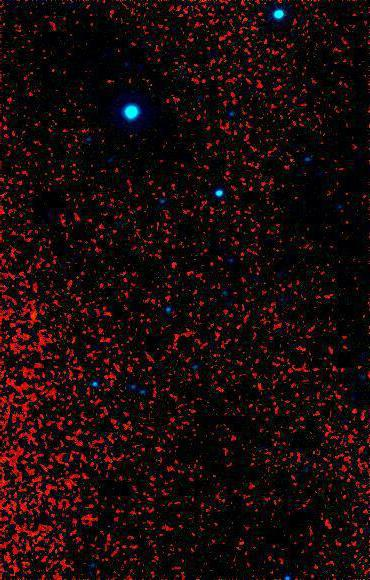star: (26, 301, 56, 331)
